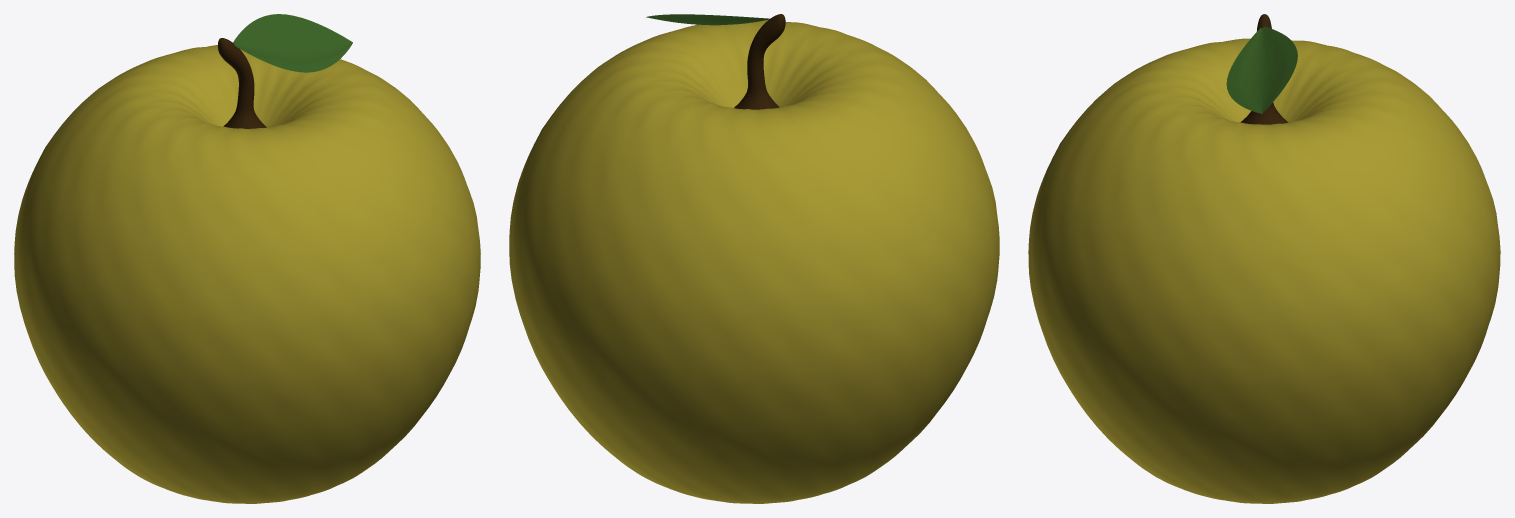
The model's file is Apple.fbx.
The picture shows the model from 3 angles, left to right: view 1: azimuth 30°, elevation 25°; view 2: azimuth 150°, elevation 25°; view 3: azimuth 270°, elevation 25°; orthographic projection. The views are drawn at different scales.
Visible parts, largest first — view 1: nurbsToPoly4; view 2: nurbsToPoly4; view 3: nurbsToPoly4.
Boxes of the visible parts, x1,y1,x2,y2 form: nurbsToPoly4: [14, 14, 480, 503]; nurbsToPoly4: [509, 14, 999, 503]; nurbsToPoly4: [1028, 14, 1500, 503].
Bounding box in the file's own units: 1.13 × 1.16 × 1.13.
